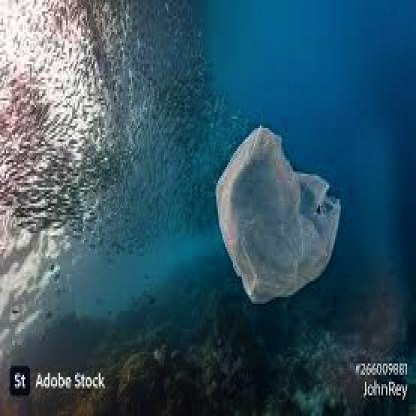pbag: (215, 126, 341, 306)
